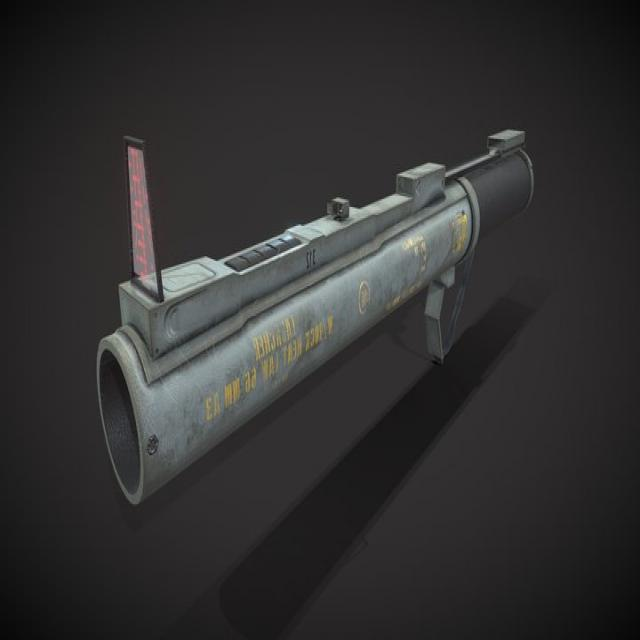rocket launcher: (93, 100, 547, 527)
